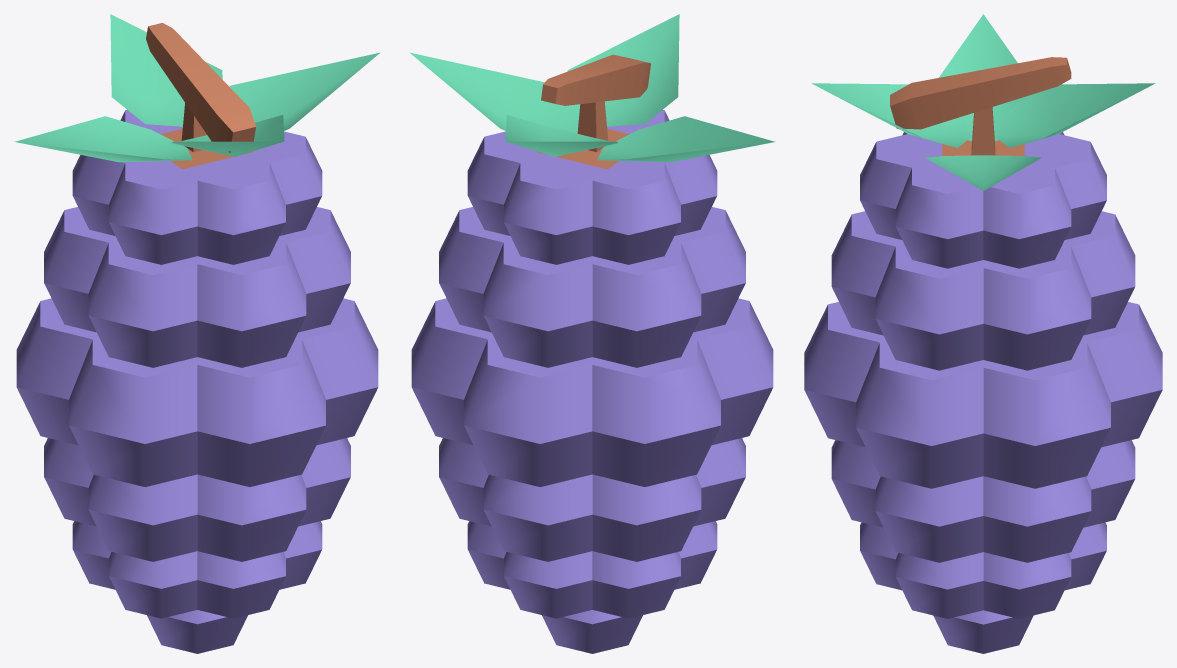
File: grapes.obj
The picture shows the model from 3 angles, left to right: view 1: azimuth 30°, elevation 25°; view 2: azimuth 150°, elevation 25°; view 3: azimuth 270°, elevation 25°; orthographic projection.
Visible parts, largest first — view 1: grapes; view 2: grapes; view 3: grapes.
Boxes of the visible parts, bbox=[...] form: grapes: bbox=[14, 14, 379, 653]; grapes: bbox=[410, 14, 775, 653]; grapes: bbox=[804, 14, 1162, 653].
Bounding box in the file's own units: 0.279 × 0.4226 × 0.2386.
